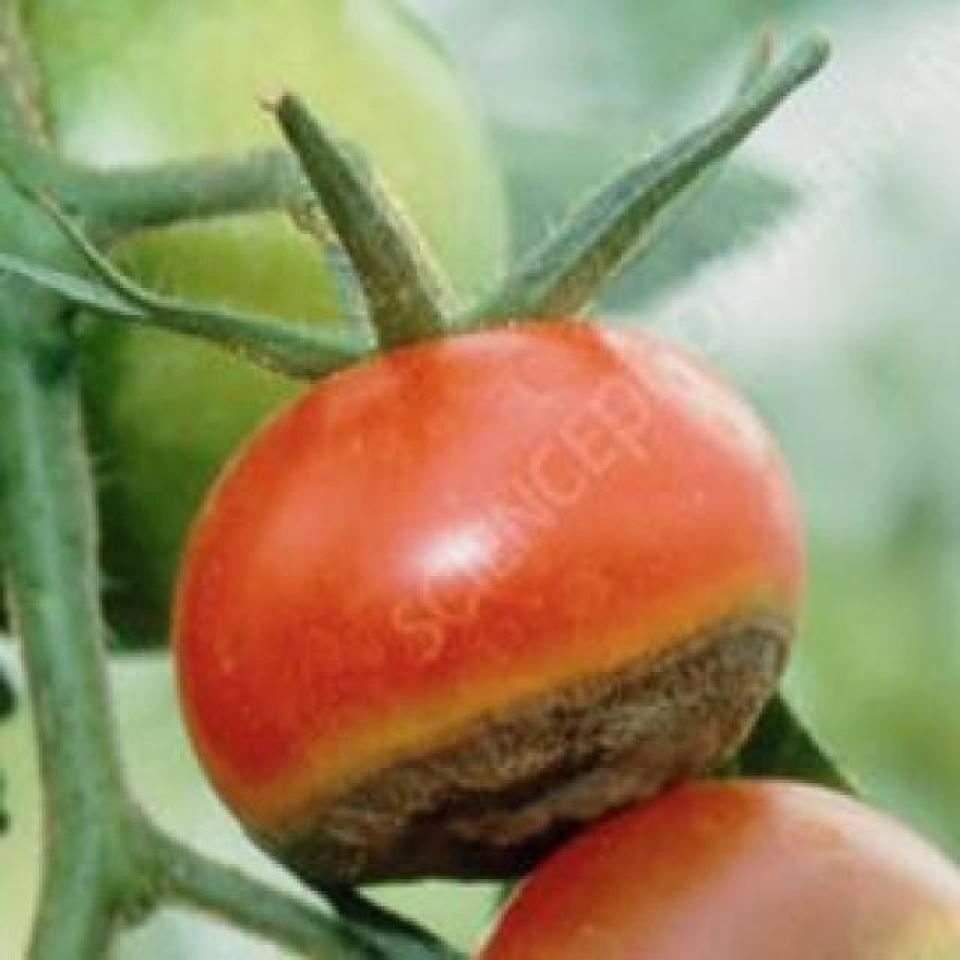Blossom_end_rot: (203, 593, 806, 861)
